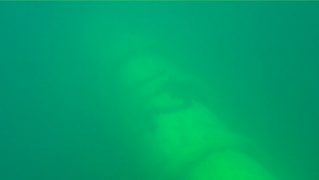2: (138, 89, 192, 134)
pipe: (85, 1, 278, 179)
